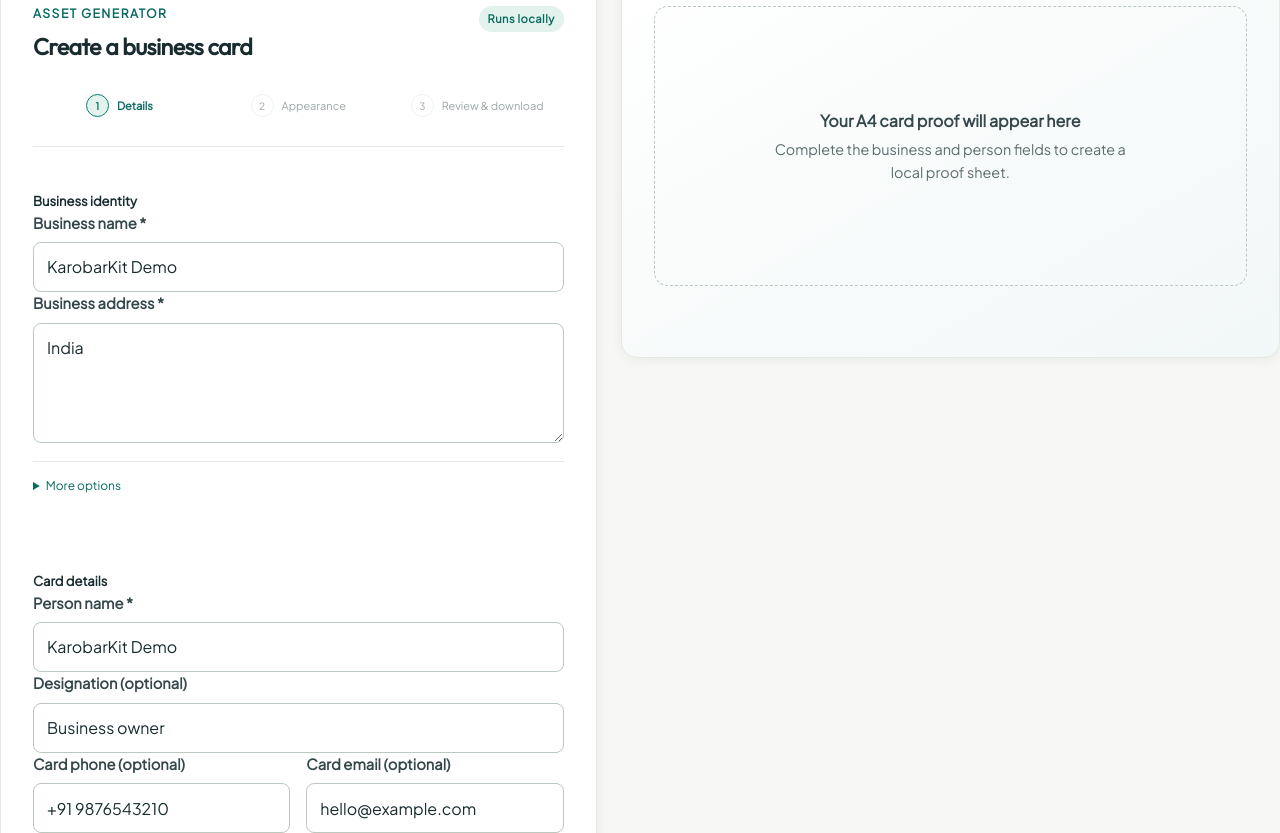
Scenario: Phase 3 document workflow wave › creates a business card proof
Replace the text in the field labelled "Business name" with "Ravi & Sons": (298, 267) [33,242,564,292]
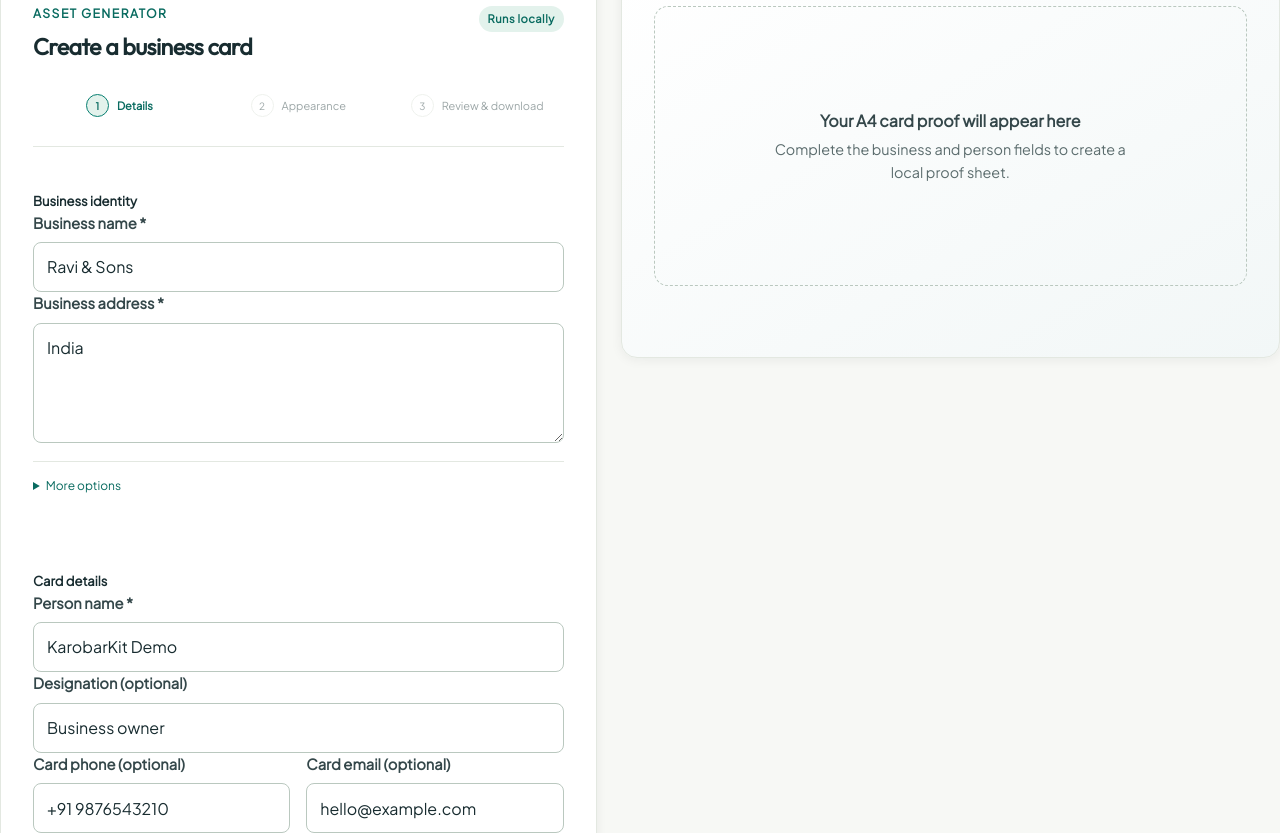
Replace the text in the text box labelled "Business address" with "Market Road": (298, 383) [33,323,564,443]
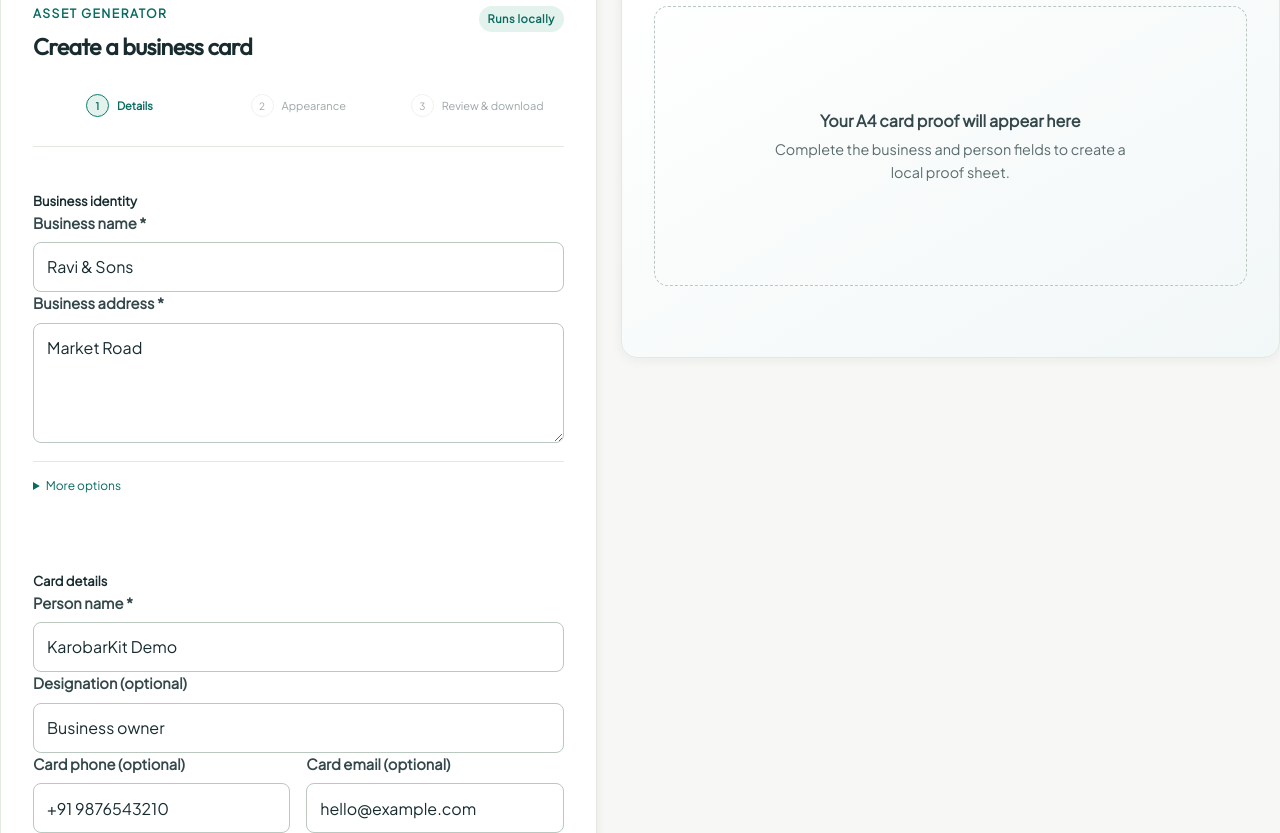
Replace the text in the field labelled "Person name" with "Nikhil Sharma": (298, 647) [33,622,564,672]
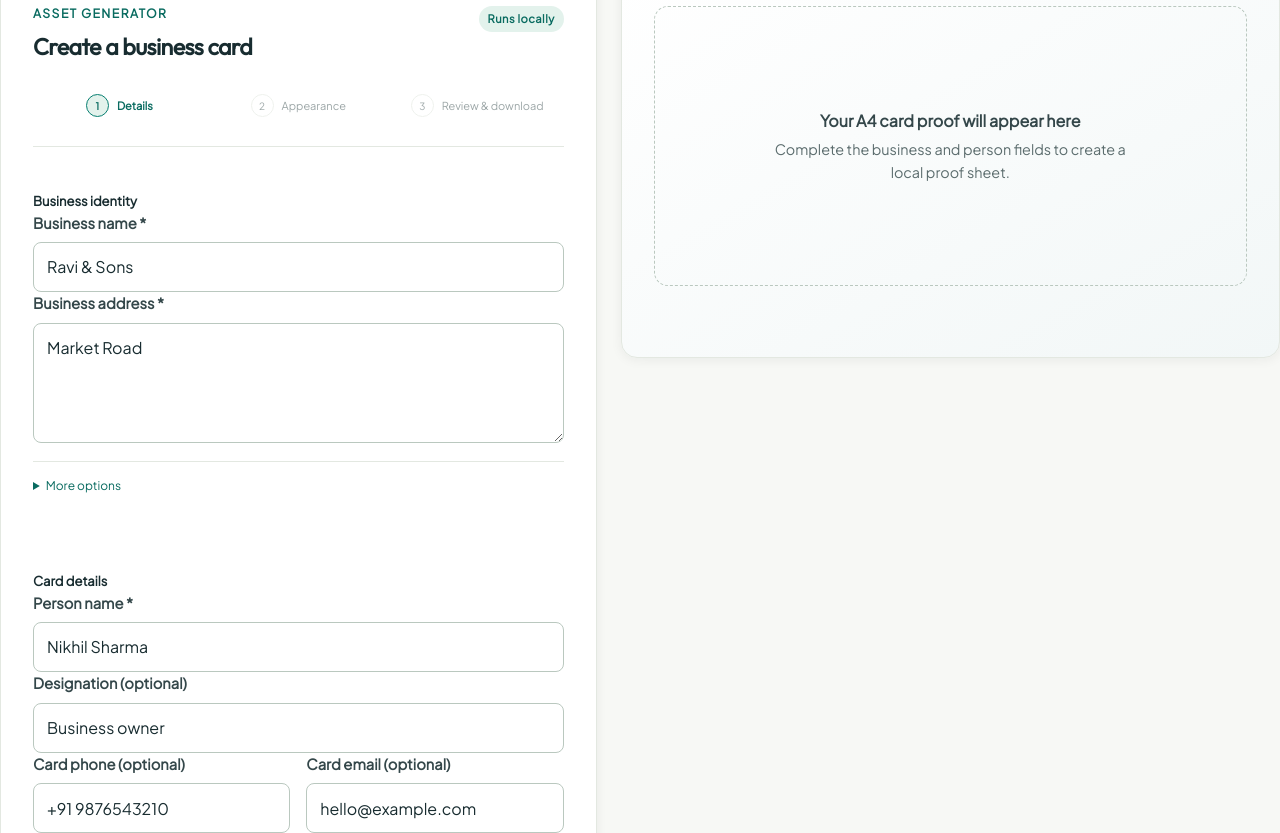
Replace the text in the field labelled "Card email (optional)" with "nikhil@example.com": (435, 808) [306,783,564,832]
(page scrolled)
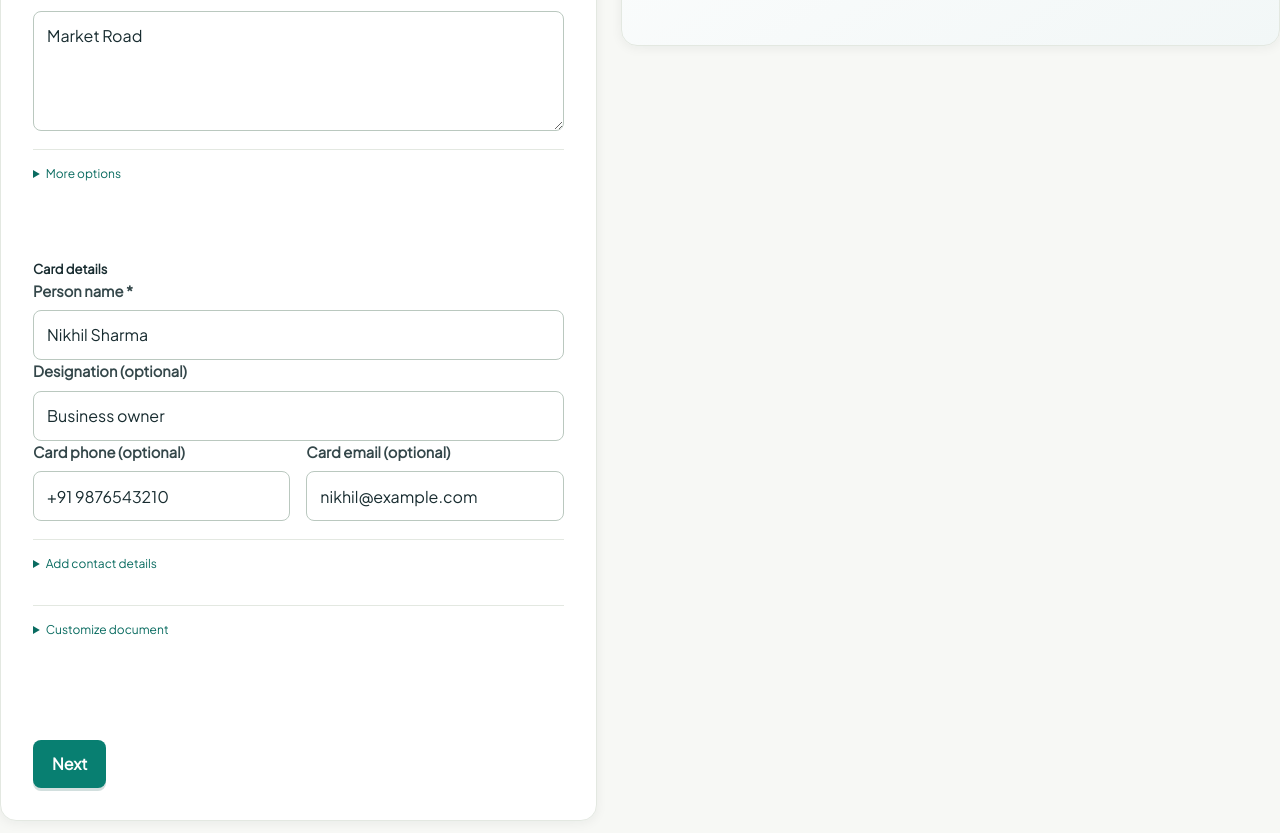
Click the button "Next": click(70, 764) [33,740,106,788]
(page scrolled)
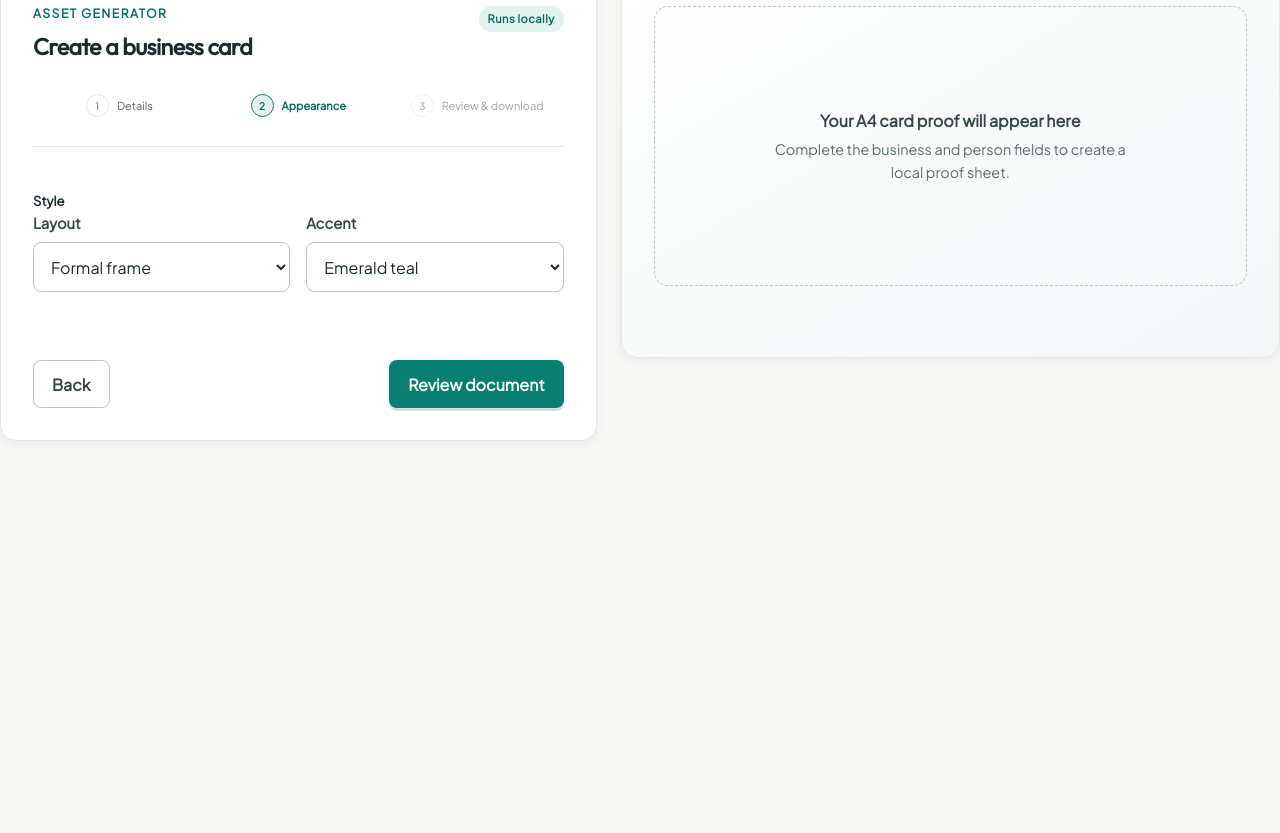
Click the button "Review document": click(476, 384) [389,360,564,408]
(page scrolled)
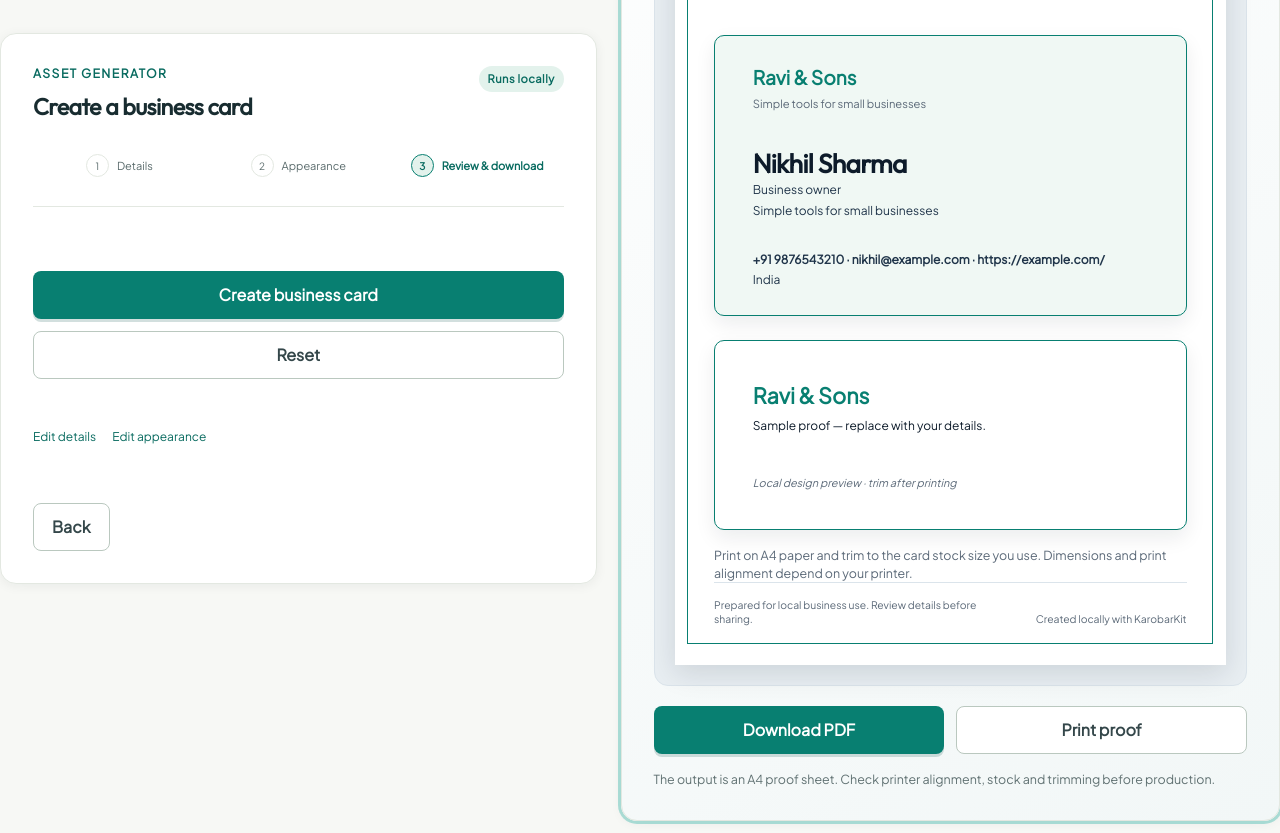
Now the element with test id "document-preview" shows "Nikhil Sharma", box [753,147,907,180]
Now the text "Local design preview · trim after printing" is shown, box [753,476,956,489]
